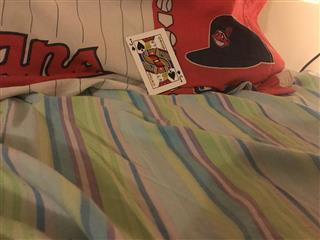JackOfSpades: (125, 27, 187, 95)
